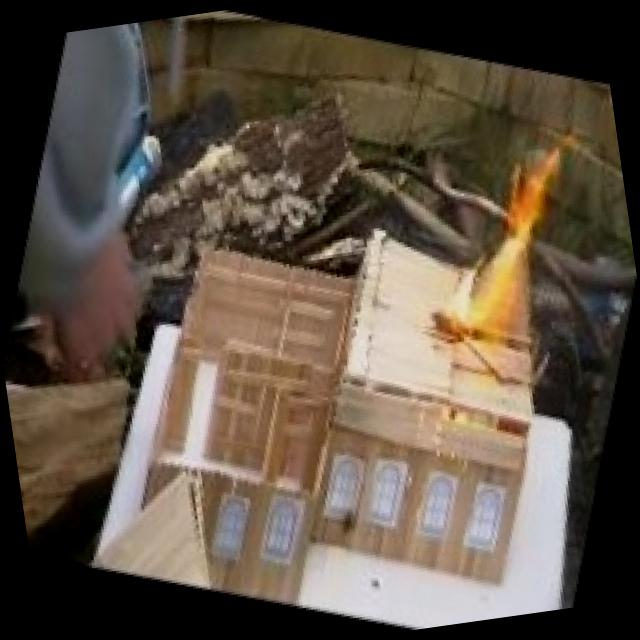fire: (432, 146, 600, 367)
